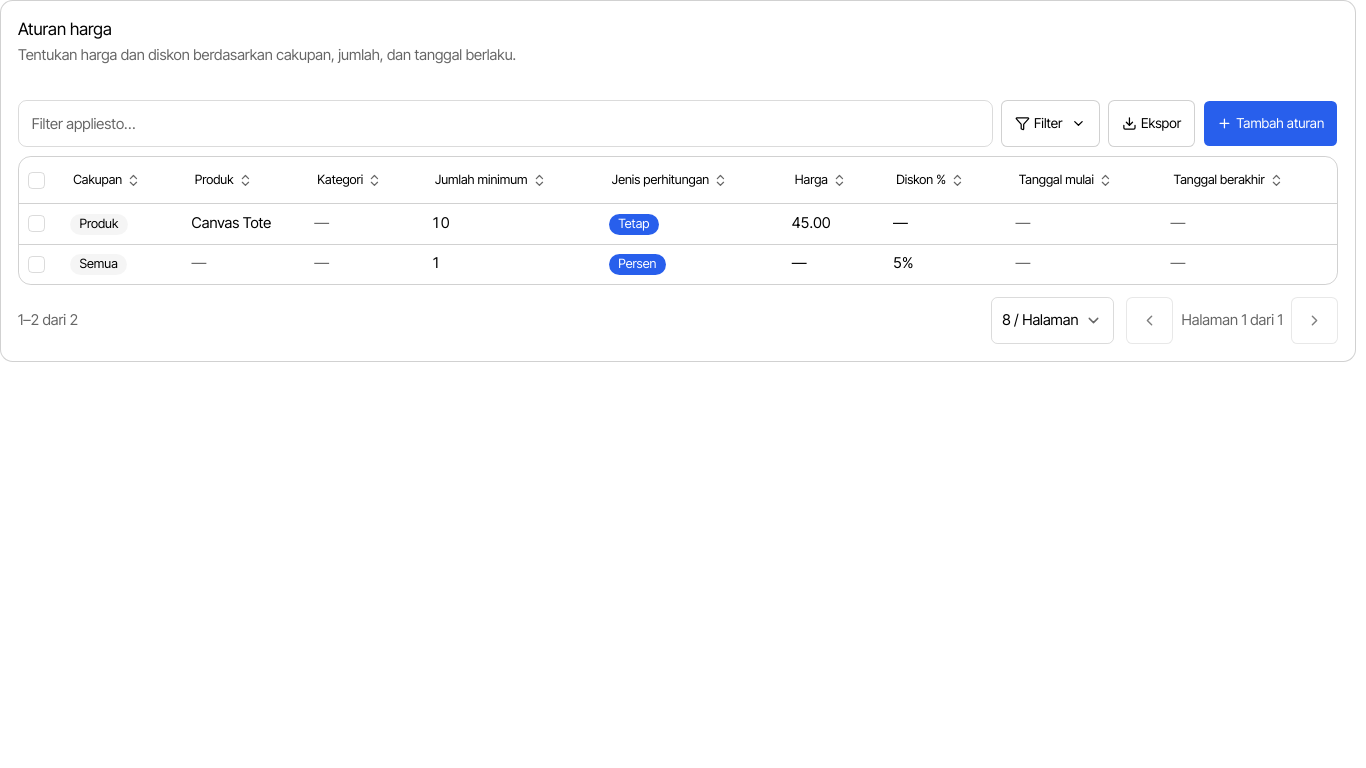
PriceBookDetail › opens the rule dialog from the add button
This screenshot has width=1366, height=768.
Expected: the text "Canvas Tote" is shown, [192,214,271,232]
What coordinates should you click on to do the following:
click the button "Tambah aturan"
I would click on:
 (1271, 124)
Its box is [1203,100,1338,147].
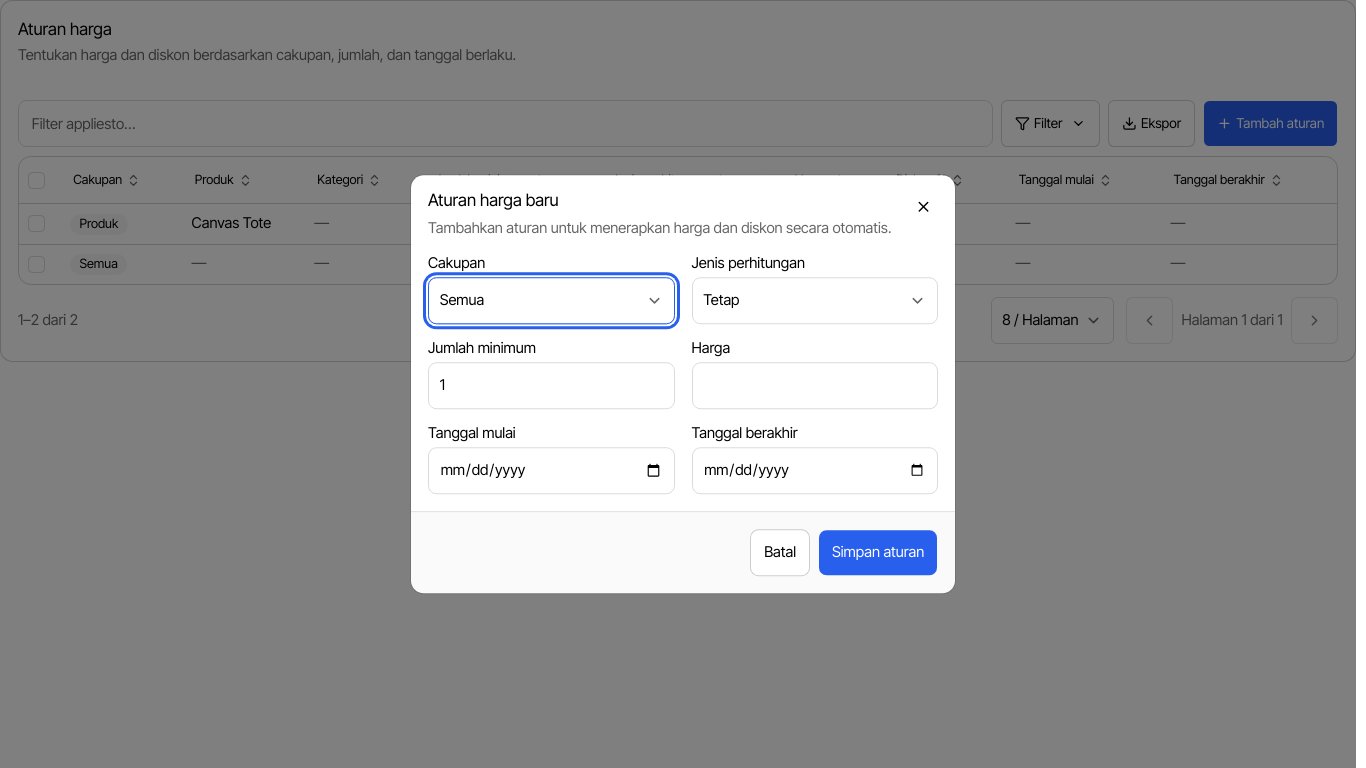
Now the dialog is shown, box [411,175,955,593]
Now the heading "Aturan harga baru" is shown, box [428,190,559,210]
